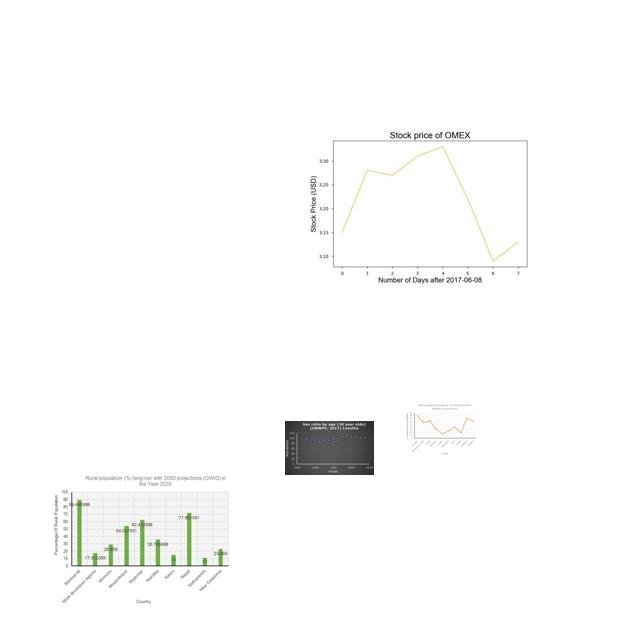Graph: (302, 117, 552, 289), (51, 473, 232, 610), (285, 421, 374, 475), (405, 403, 477, 456)
